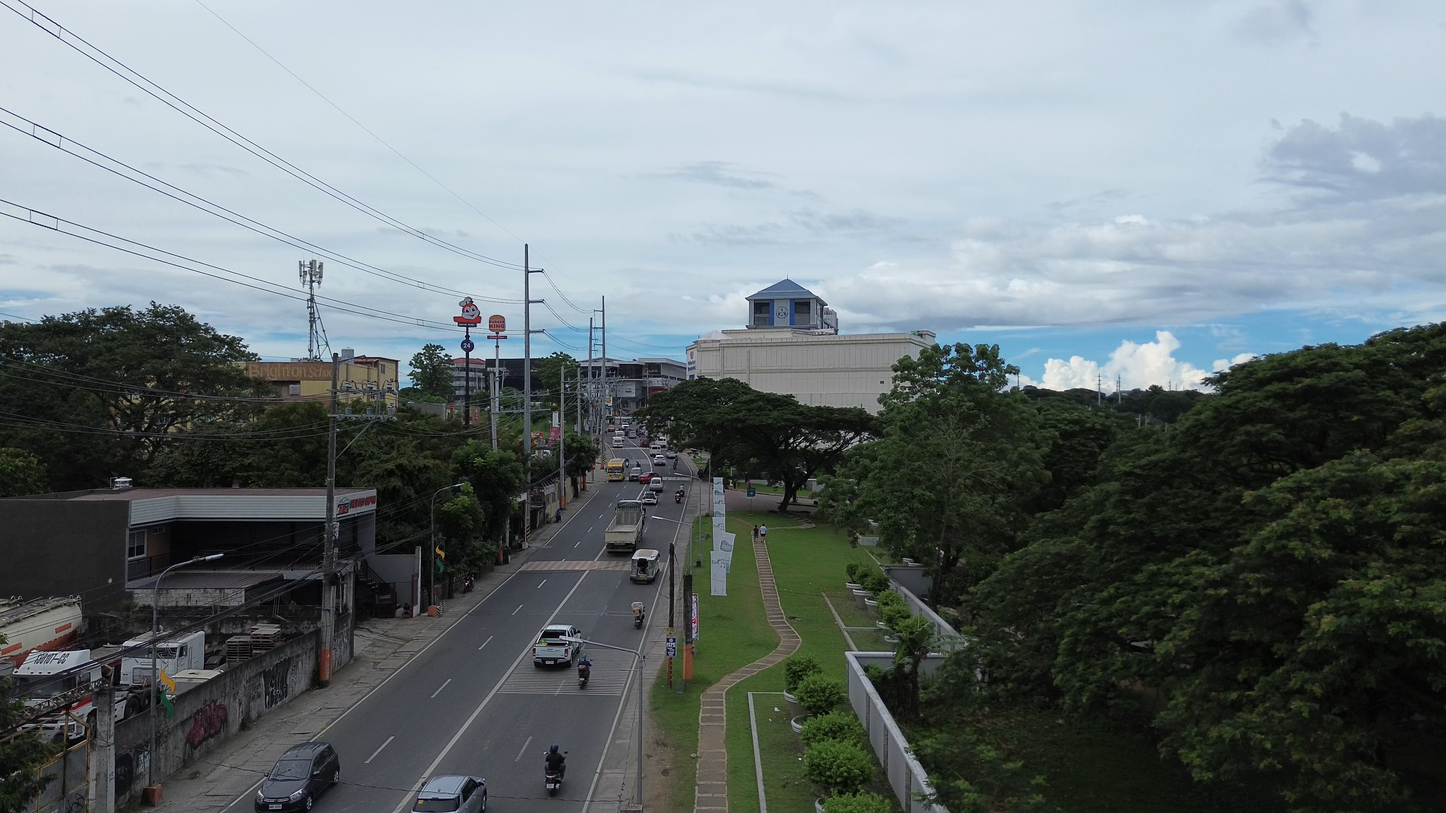car: (412, 775, 487, 813), (647, 475, 664, 492), (641, 488, 657, 505), (636, 471, 656, 484), (628, 465, 643, 481), (653, 454, 667, 466)
motorcycle: (545, 763, 563, 796), (577, 660, 590, 688), (632, 602, 645, 629), (462, 576, 473, 594), (674, 489, 684, 503)
truck: (15, 650, 104, 740)
vehicle: (255, 741, 339, 813), (0, 597, 81, 667), (14, 649, 103, 706), (604, 500, 646, 553), (156, 631, 204, 676), (532, 624, 582, 667), (630, 549, 659, 583), (577, 653, 591, 687), (607, 459, 625, 481), (631, 601, 645, 629), (647, 475, 664, 493), (636, 470, 657, 484), (640, 490, 657, 505), (628, 464, 643, 481), (649, 439, 664, 452), (653, 454, 667, 467), (674, 487, 685, 502), (612, 435, 624, 448), (665, 450, 677, 460), (626, 430, 636, 438)
